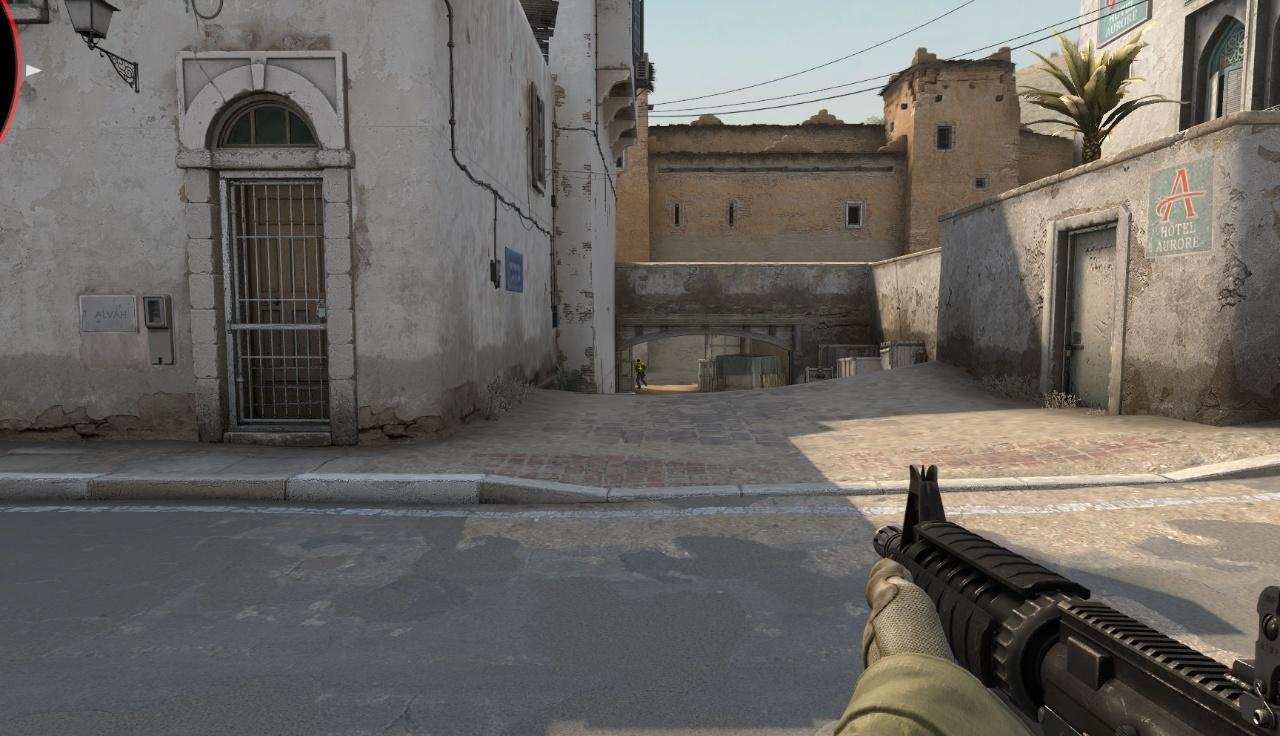rifle: (832, 464, 1280, 736)
tt: (635, 359, 648, 389)
tthead: (637, 359, 640, 363)
